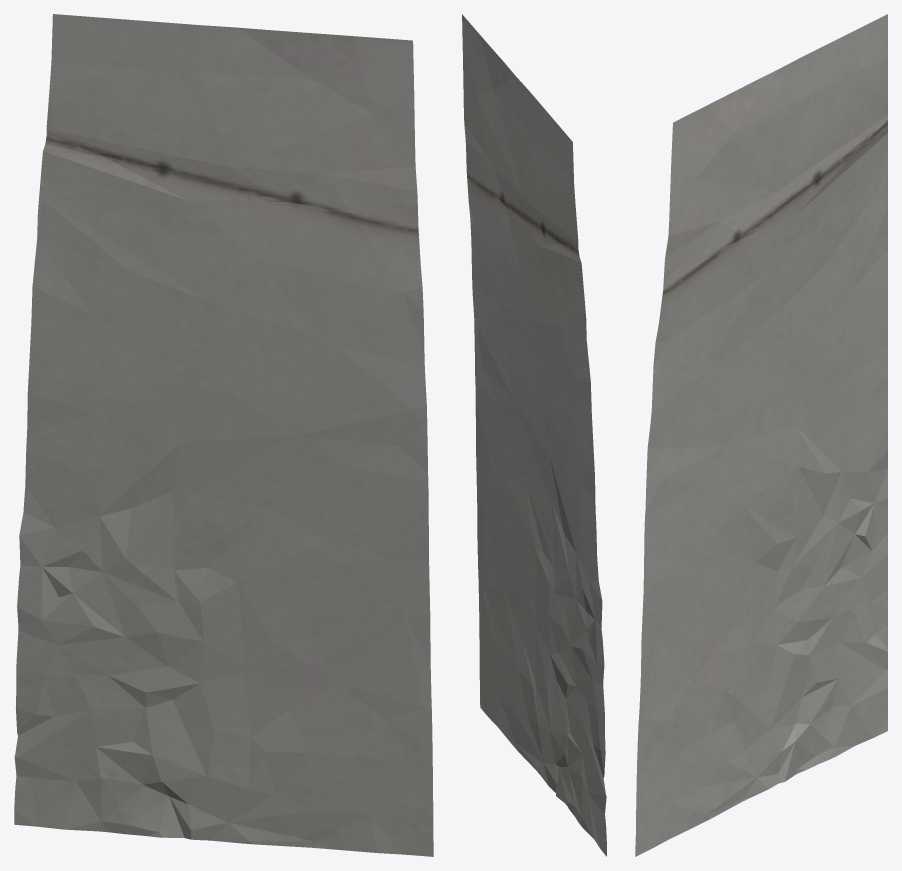
The picture shows the model from 3 angles, left to right: view 1: azimuth 30°, elevation 25°; view 2: azimuth 150°, elevation 25°; view 3: azimuth 270°, elevation 25°; orthographic projection. The views are drawn at different scales.
Size of the model in its own units: 0.6159 by 1.67 by 0.5223.
Materials: 1 (1 with a texture image).
